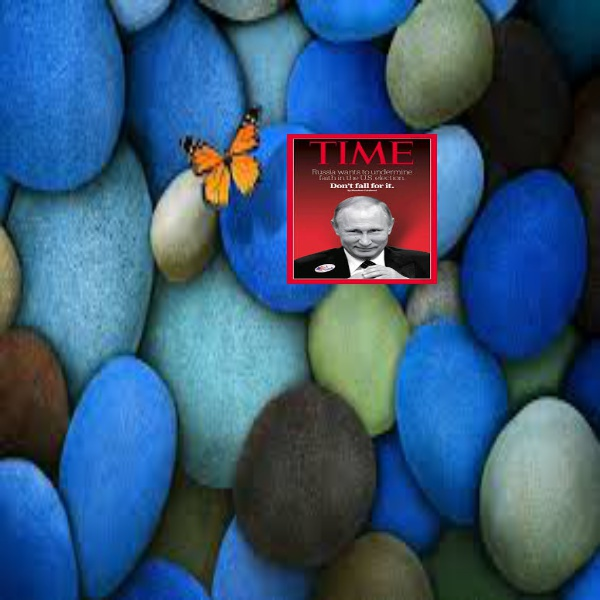time_cover: (281, 131, 434, 280)
